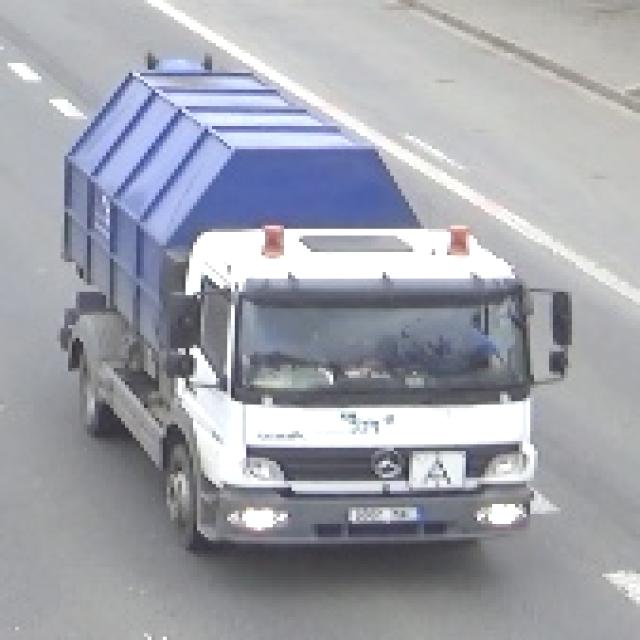truck: (50, 44, 569, 575)
